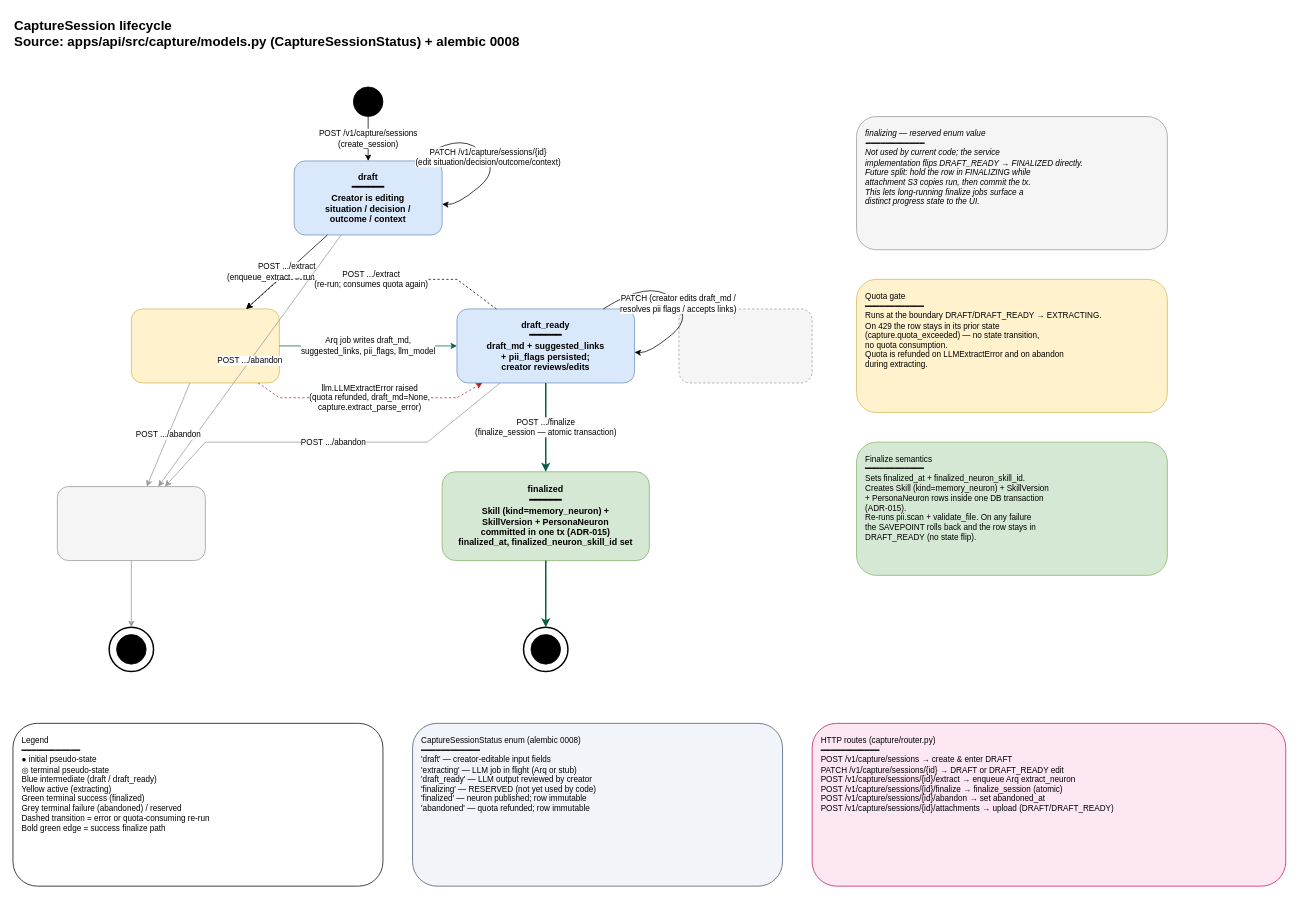
The diagram is 1299 pixels wide and 899 high, and some of its shapes have lost their labels. Each missing label, with the centre of its shape:
"abandoned ━━━━━━ abandoned_at set; quota refund applied" goes at pixel 131 523.
"extracting ━━━━━━ LLM job in flight (stub or Arq worker)" goes at pixel 205 345.
"finalizing ━━━━━━ (reserved enum value — current code skips this)" goes at pixel 745 345.
